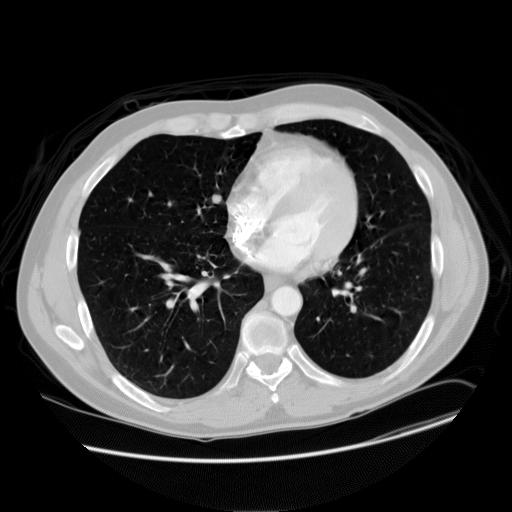nodule: (208, 191, 224, 207)
